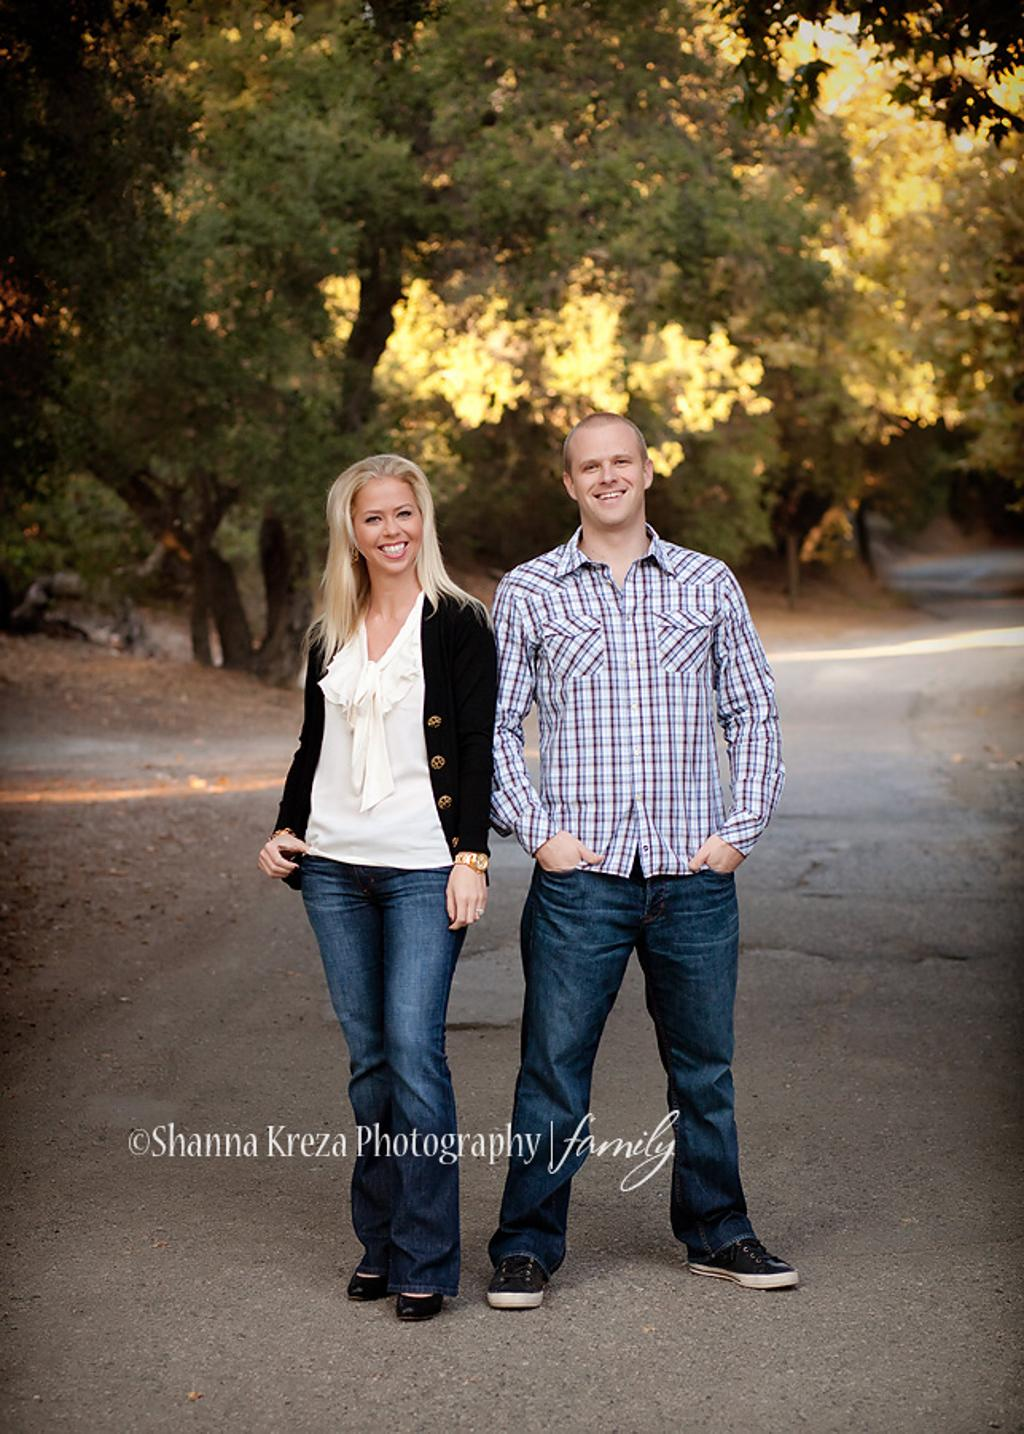face: (568, 422, 644, 526), (355, 481, 419, 579)
